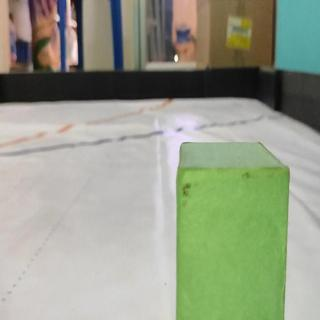greenbox: (175, 140, 292, 320)
